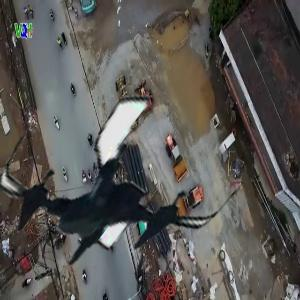drone: (5, 67, 232, 294)
